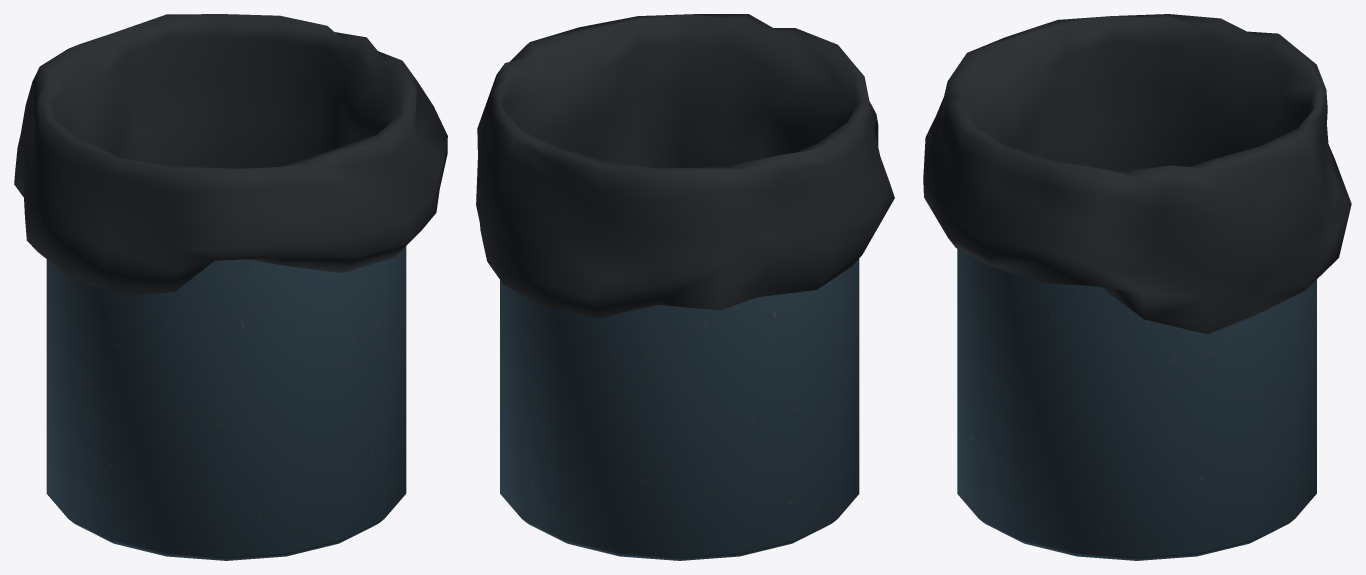
File: Trashbin_Visual.fbx
3 views of the same model, side by side, from view 1: azimuth 30°, elevation 25°; view 2: azimuth 150°, elevation 25°; view 3: azimuth 270°, elevation 25° (orthographic).
Visible parts, largest first — view 1: Trashbin; view 2: Trashbin; view 3: Trashbin.
Boxes of the visible parts, bbox=[...] form: Trashbin: bbox=[14, 14, 447, 560]; Trashbin: bbox=[476, 14, 894, 560]; Trashbin: bbox=[923, 14, 1351, 560].
Size of the model in its own units: 89.26 by 87.95 by 85.71.
1 material, 1 textured.
